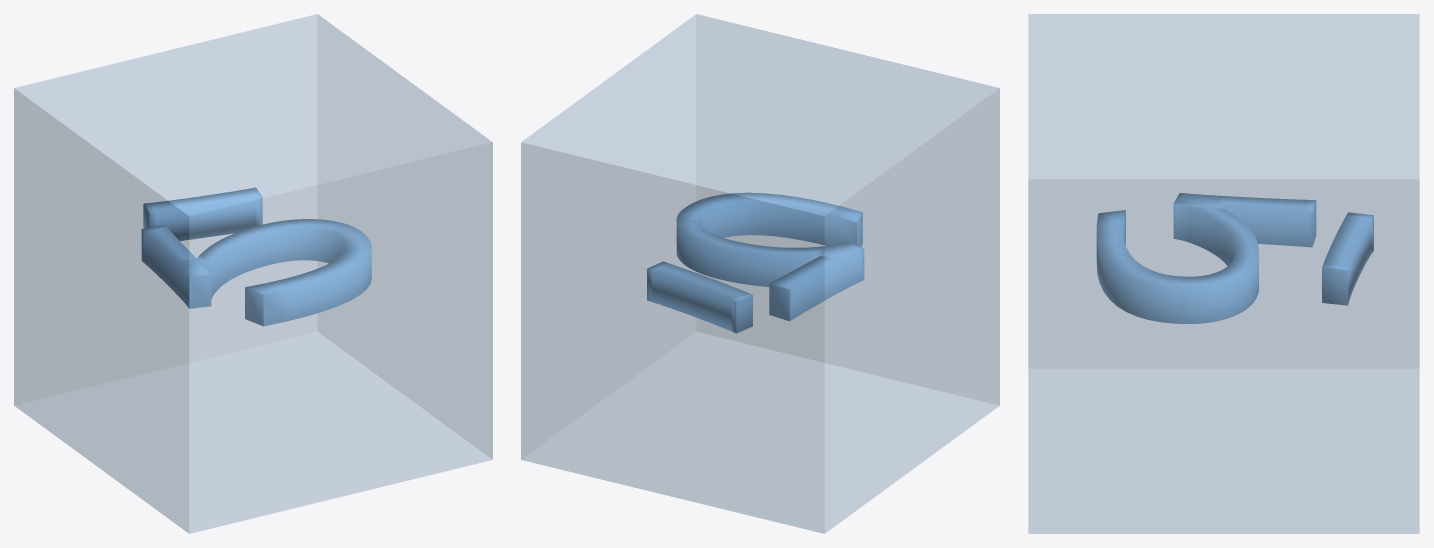
Rendered from Title_Ice3.obj.
The picture shows the model from 3 angles, left to right: view 1: azimuth 30°, elevation 25°; view 2: azimuth 150°, elevation 25°; view 3: azimuth 270°, elevation 25°; orthographic projection. The views are drawn at different scales.
Visible parts, largest first — view 1: 3.ら; view 2: 3.ら; view 3: 3.ら.
Boxes of the visible parts, x1,y1,x2,y2 form: 3.ら: (14,14,492,533); 3.ら: (521,14,999,533); 3.ら: (1028,14,1419,533).
Bounding box in the file's own units: 2 × 2 × 2.
Materials: 1 (1 with a texture image).
